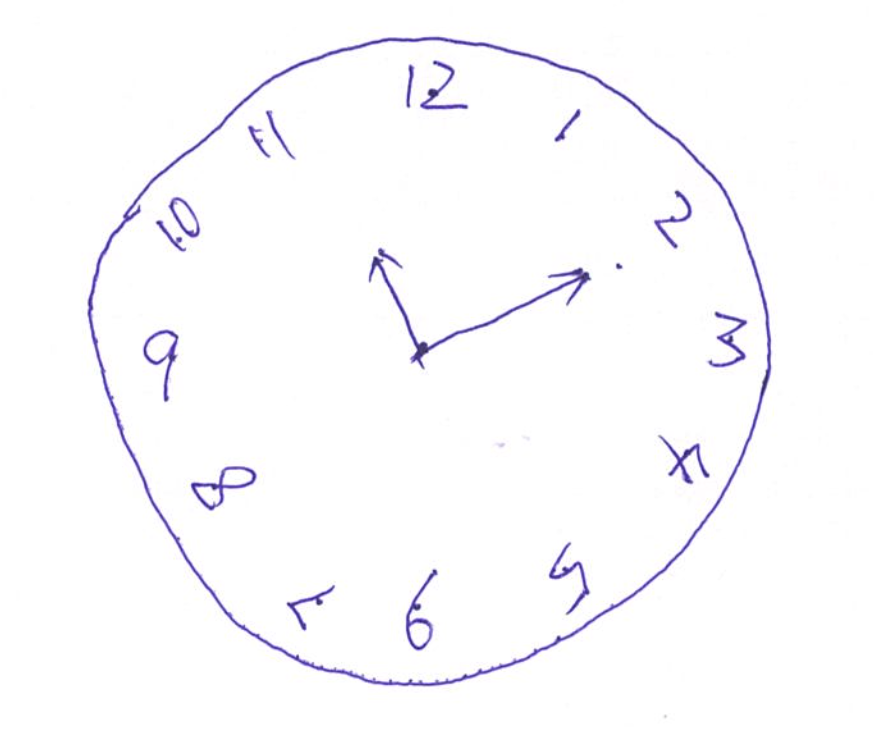1: (553, 106, 587, 146)
10: (154, 196, 205, 254)
11: (241, 105, 298, 168)
12: (397, 58, 469, 114)
2: (652, 186, 695, 247)
3: (706, 306, 753, 372)
9: (138, 316, 181, 402)
contour: (83, 33, 779, 689)
hand: (371, 249, 587, 365)
top_left_arrow: (375, 250, 420, 355)
top_right_arrow: (425, 273, 590, 349)
